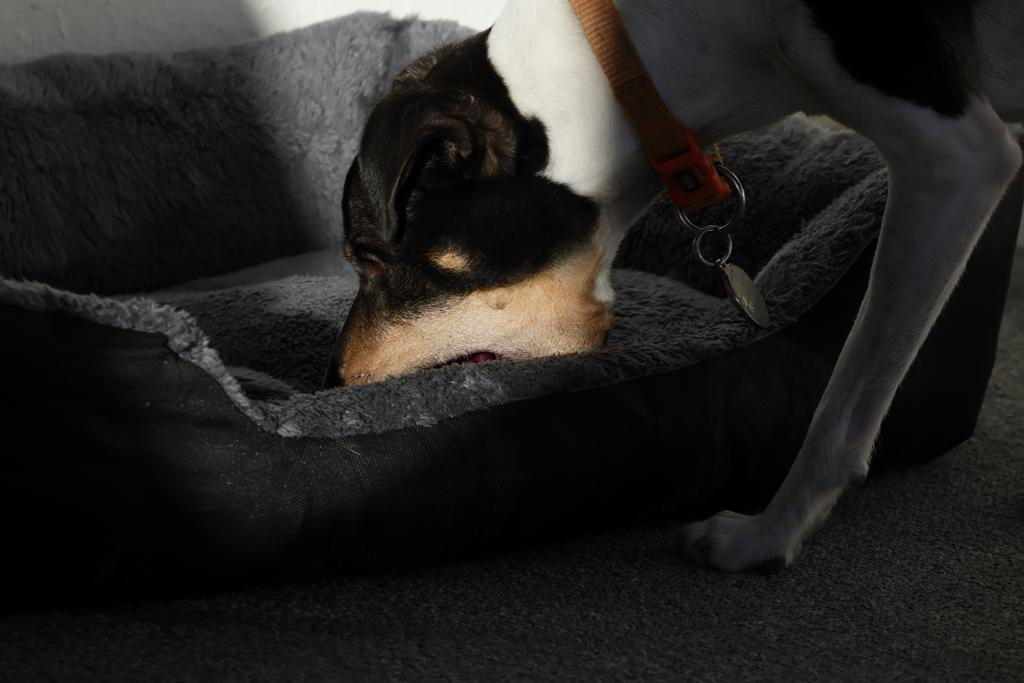Dog: (307, 0, 1024, 587)
